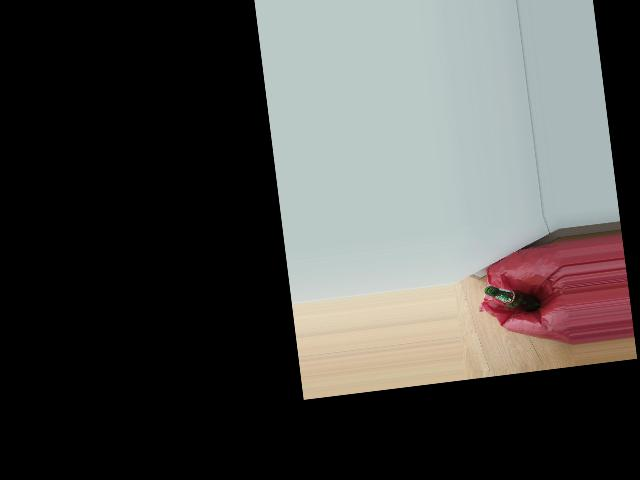beer: (484, 281, 540, 317)
